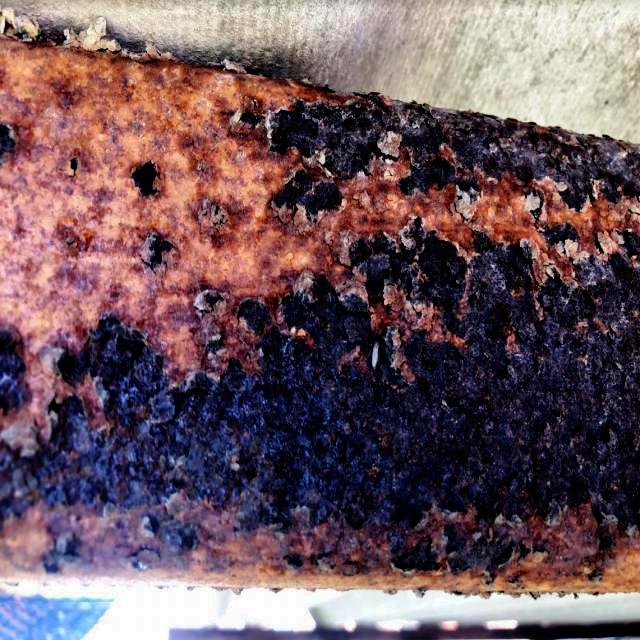Corrosion: (0, 33, 640, 596)
